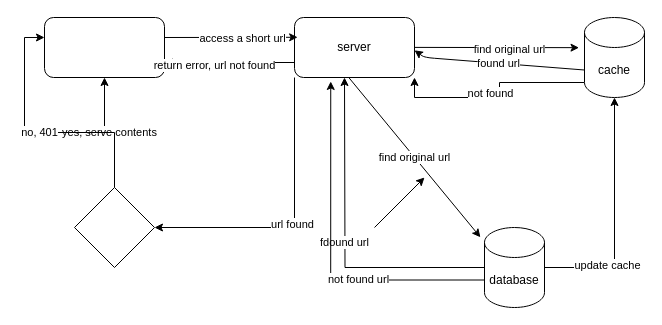
Some shapes in this 662 by 325 pixel diagram are drawn without their labels. Here are the shapes that lost their labels. From the top down, the box of each, then its label:
(44, 16, 164, 78): client
(74, 186, 154, 268): does user has right
